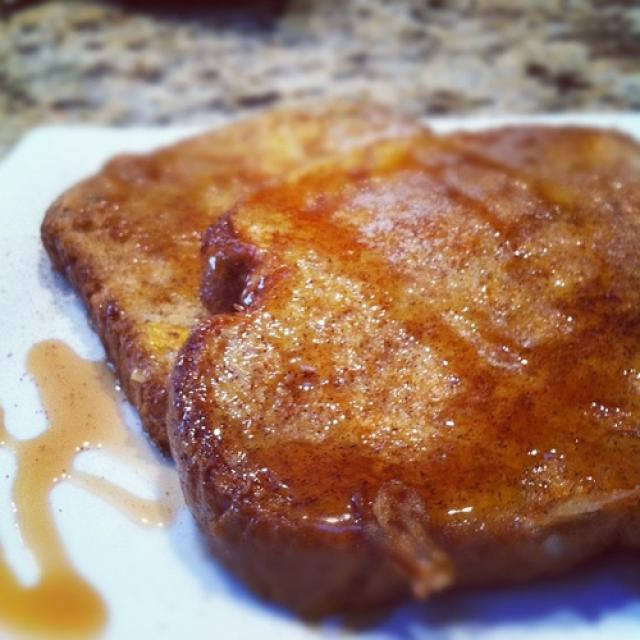面包点心: (19, 50, 630, 616)
